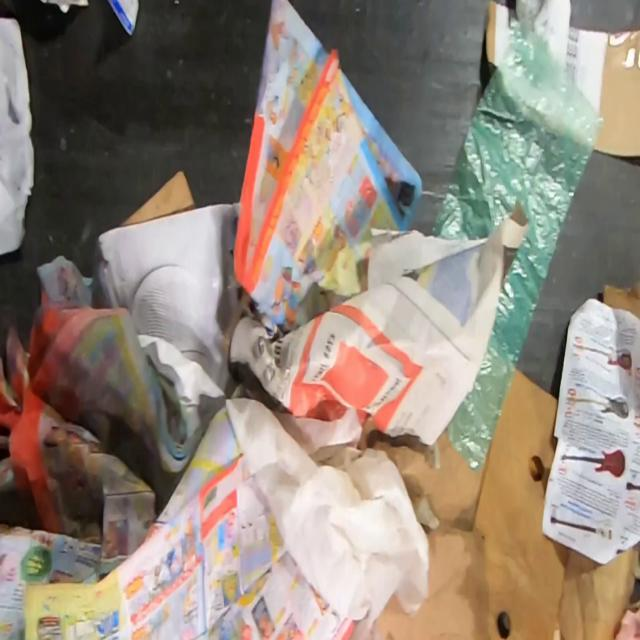cardboard: (356, 416, 491, 639), (474, 368, 568, 639), (566, 25, 640, 159), (559, 542, 640, 640), (119, 168, 196, 226), (485, 0, 510, 78), (602, 280, 640, 320), (104, 0, 140, 38)
soft_plastic: (430, 0, 605, 477)
